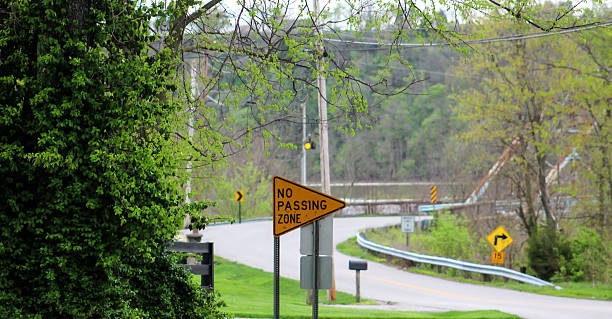right turn: (485, 226, 514, 253), (235, 189, 244, 202)
